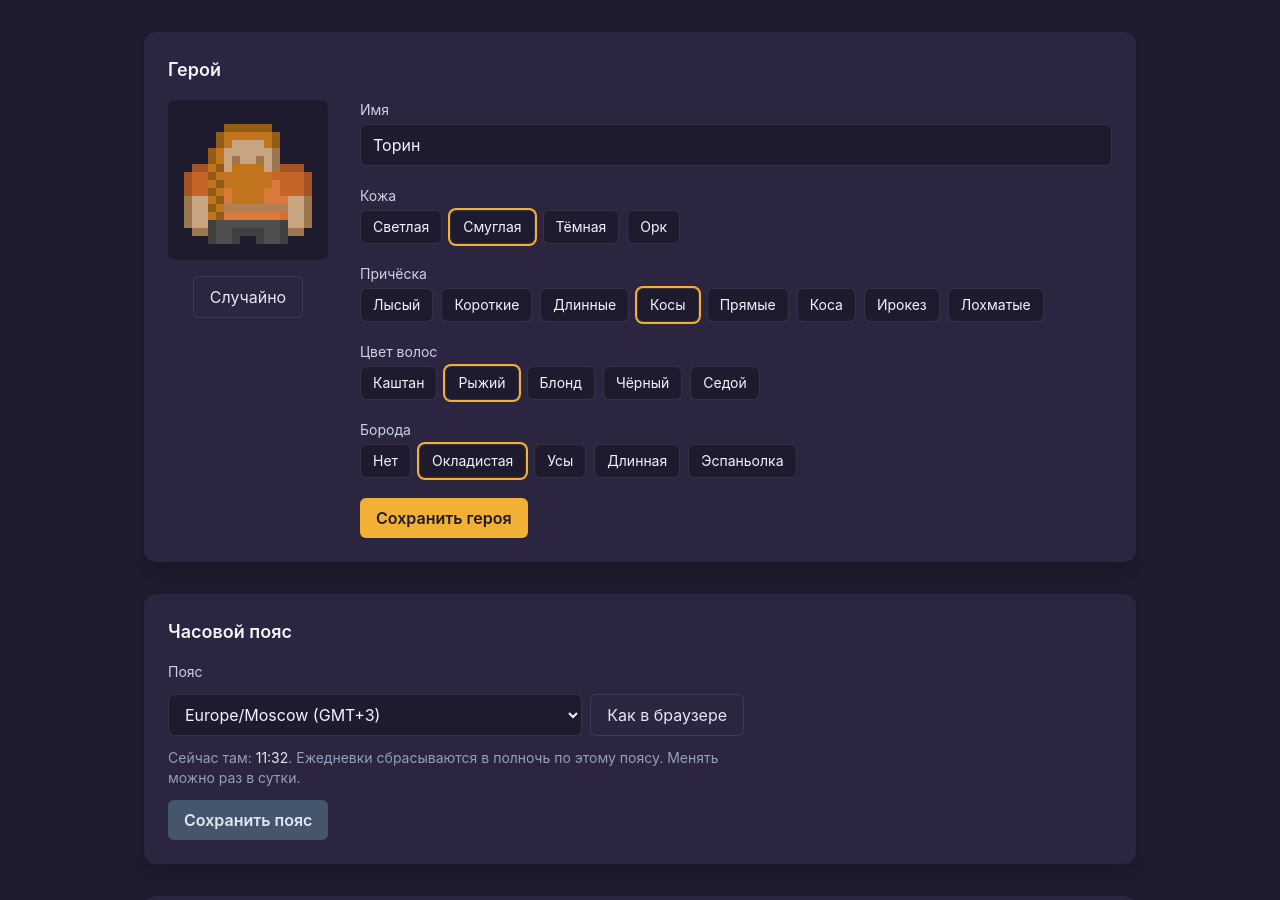
Test: ProfileView › saves the new name and look and keeps the changed hero
This screenshot has width=1280, height=900.
Replace the text in the field named "name" with " Гимли " at (736, 145), box [360, 124, 1112, 166]
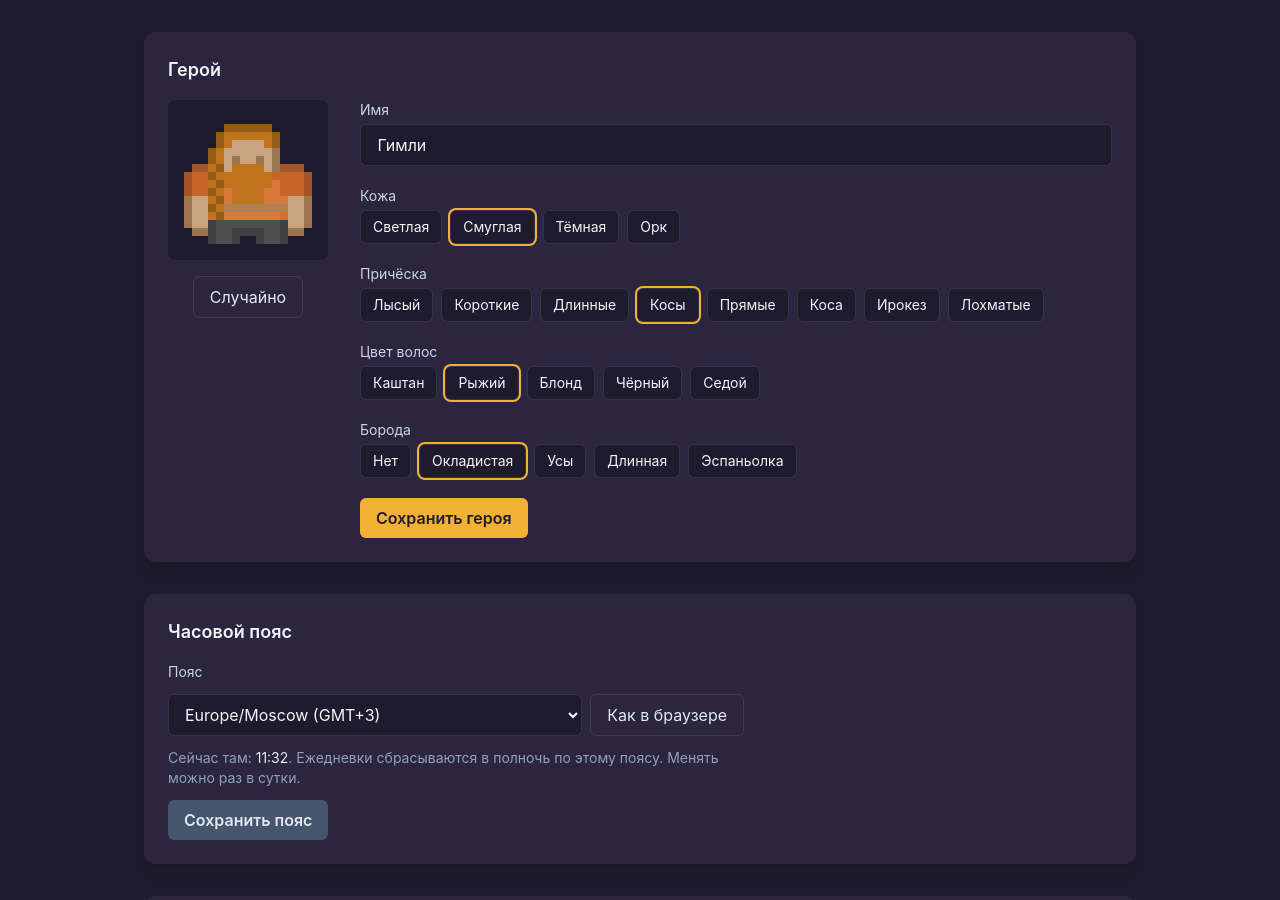
Click the radio button labelled "Ирокез" at (902, 305), box [864, 288, 940, 322]
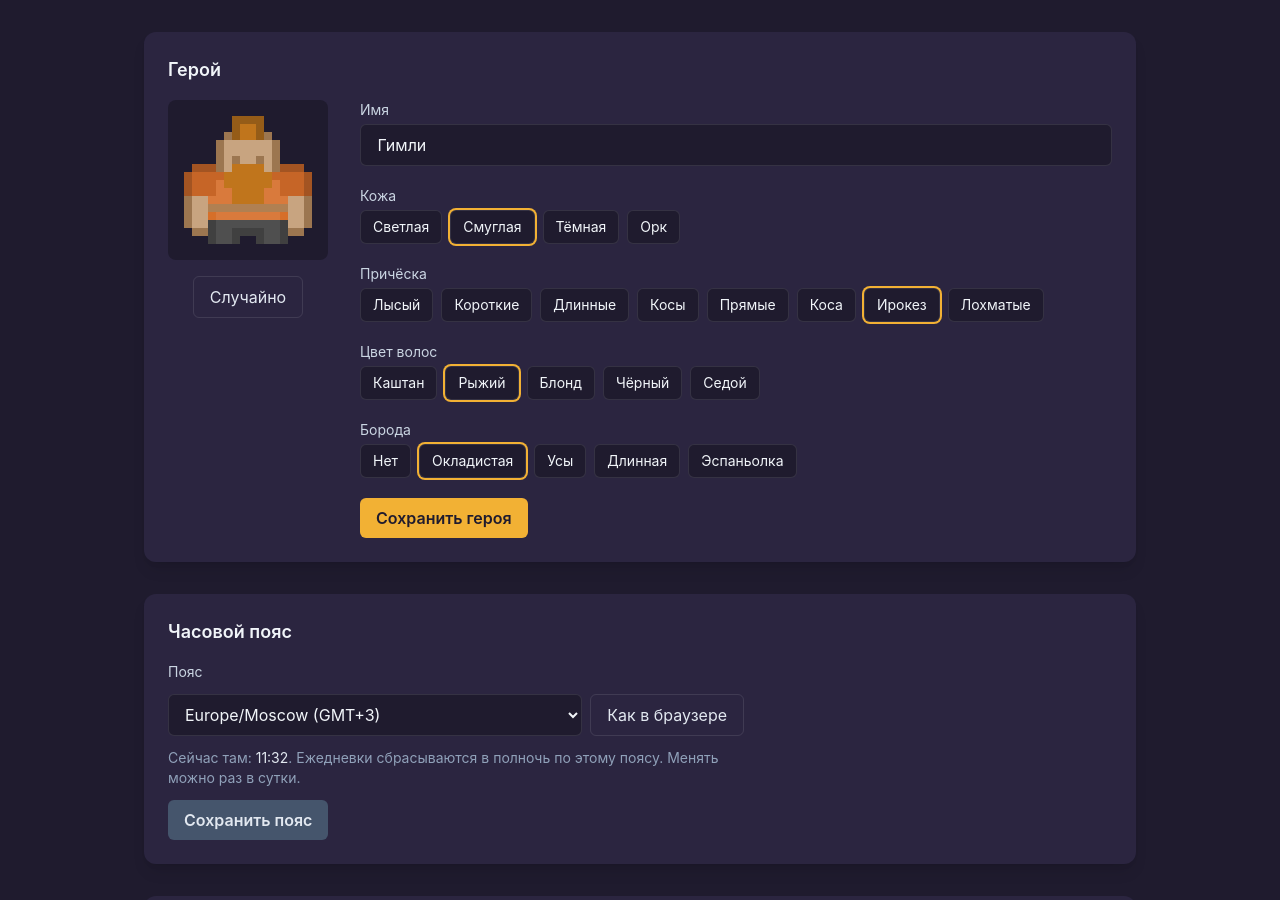
Submit the form that starts with "Случайно", box [168, 100, 1112, 538]
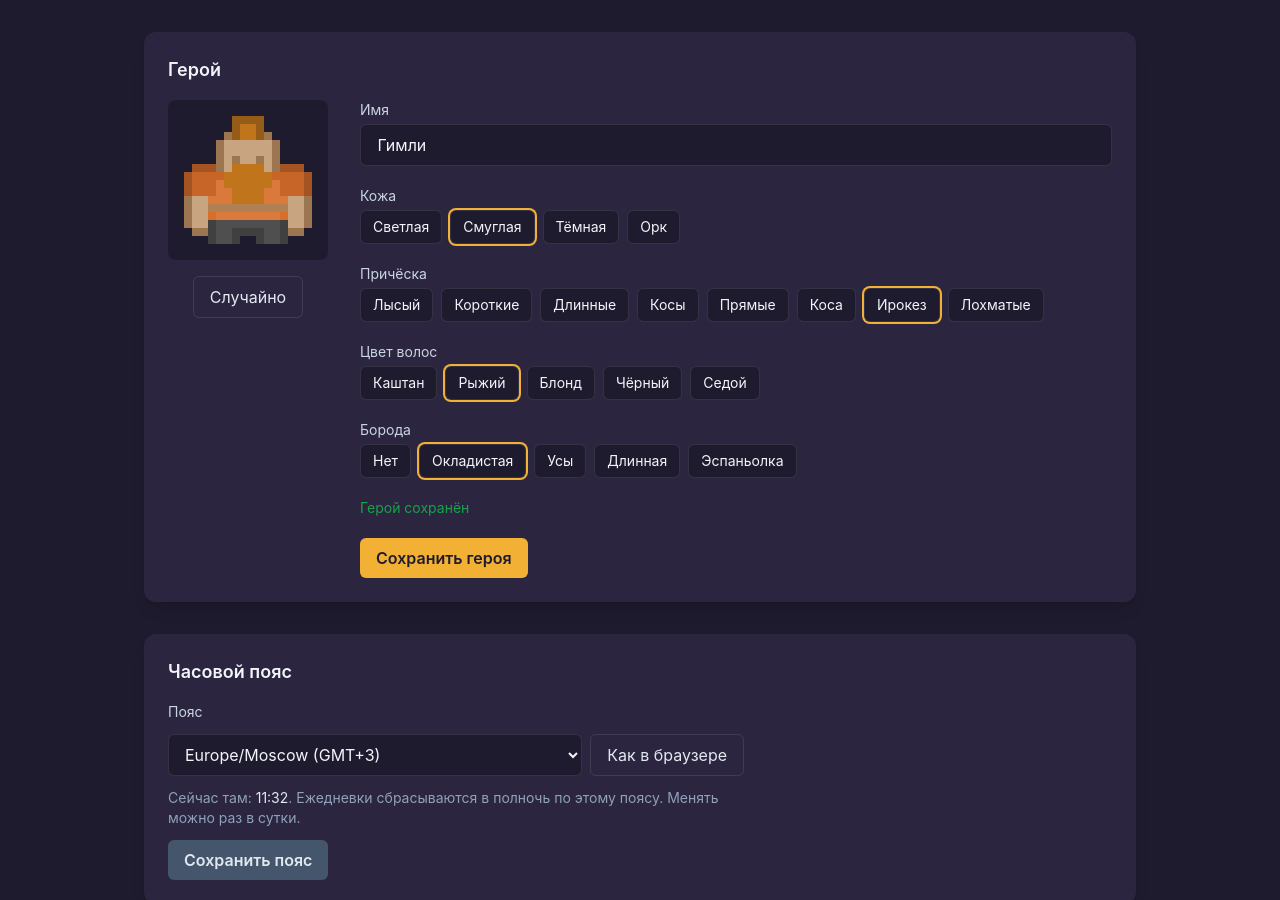
Expected: the message "Герой сохранён" is shown, [360, 499, 469, 516]
